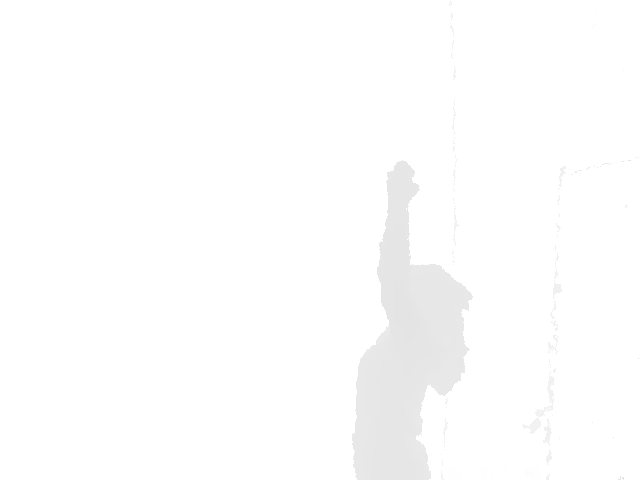hand: (385, 160, 421, 205)
head: (380, 262, 474, 329)
person: (350, 159, 474, 479)
